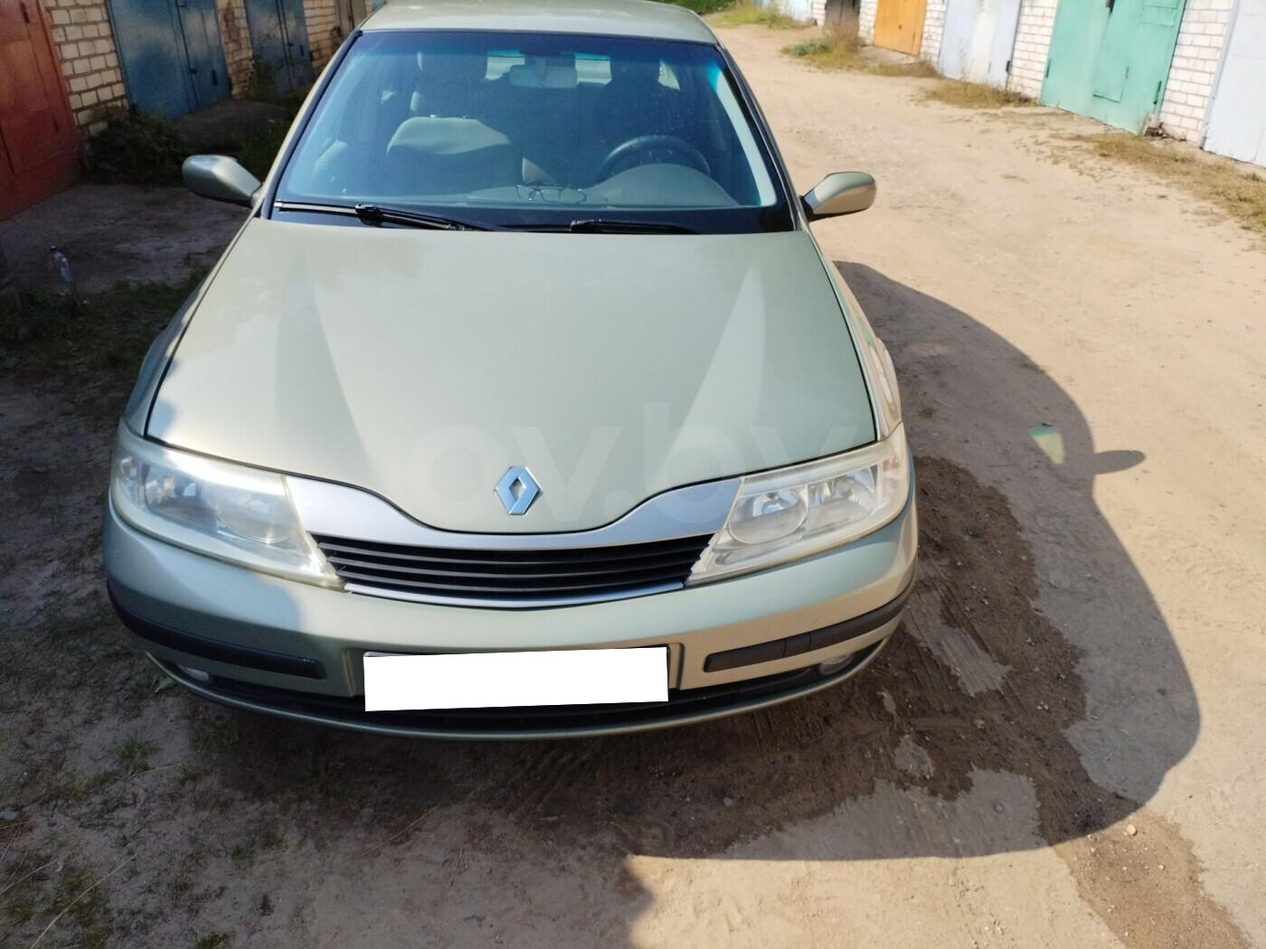Laguna_2001-2005: (103, 0, 918, 735)
